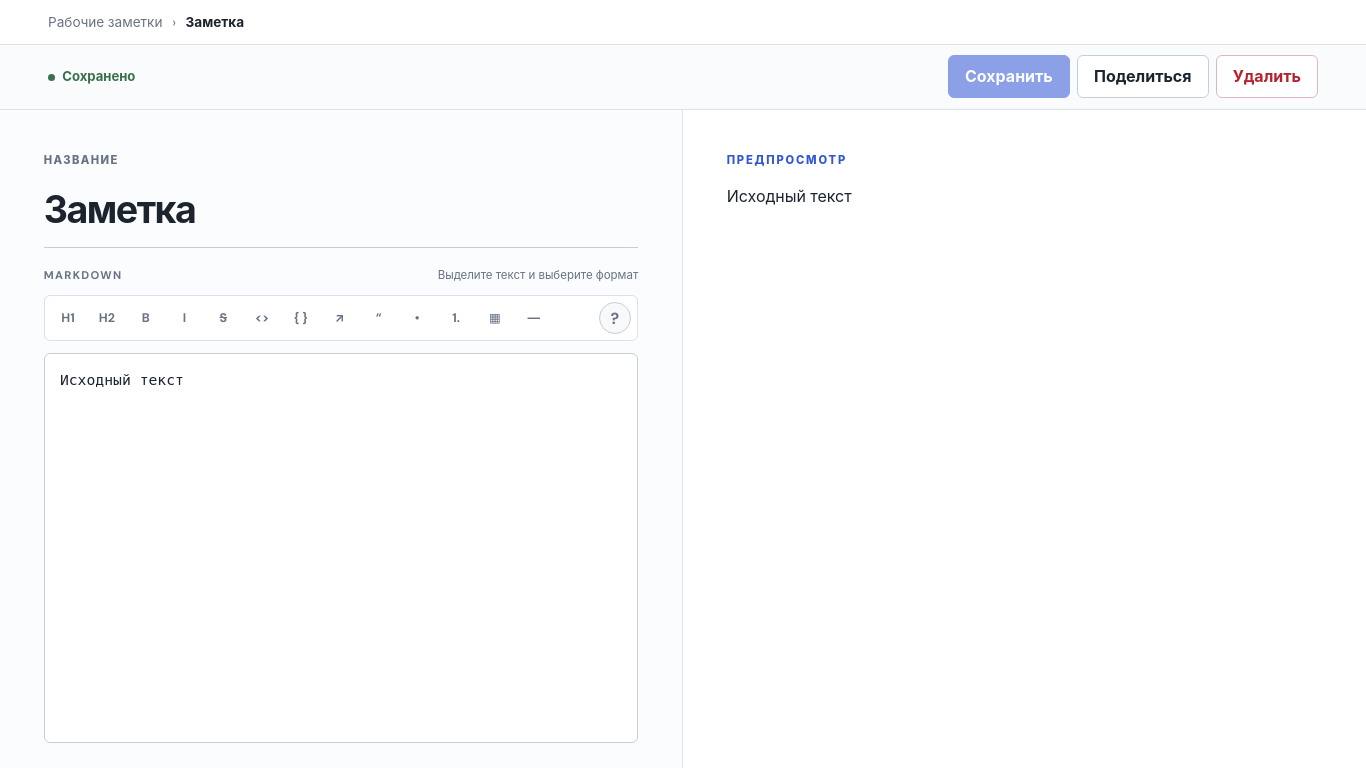
Test case: NotePage autosave › shows the shortcut reference on hover and keyboard focus
Hover over the button named "Сочетания клавиш" at (615, 318), box [599, 302, 631, 334]
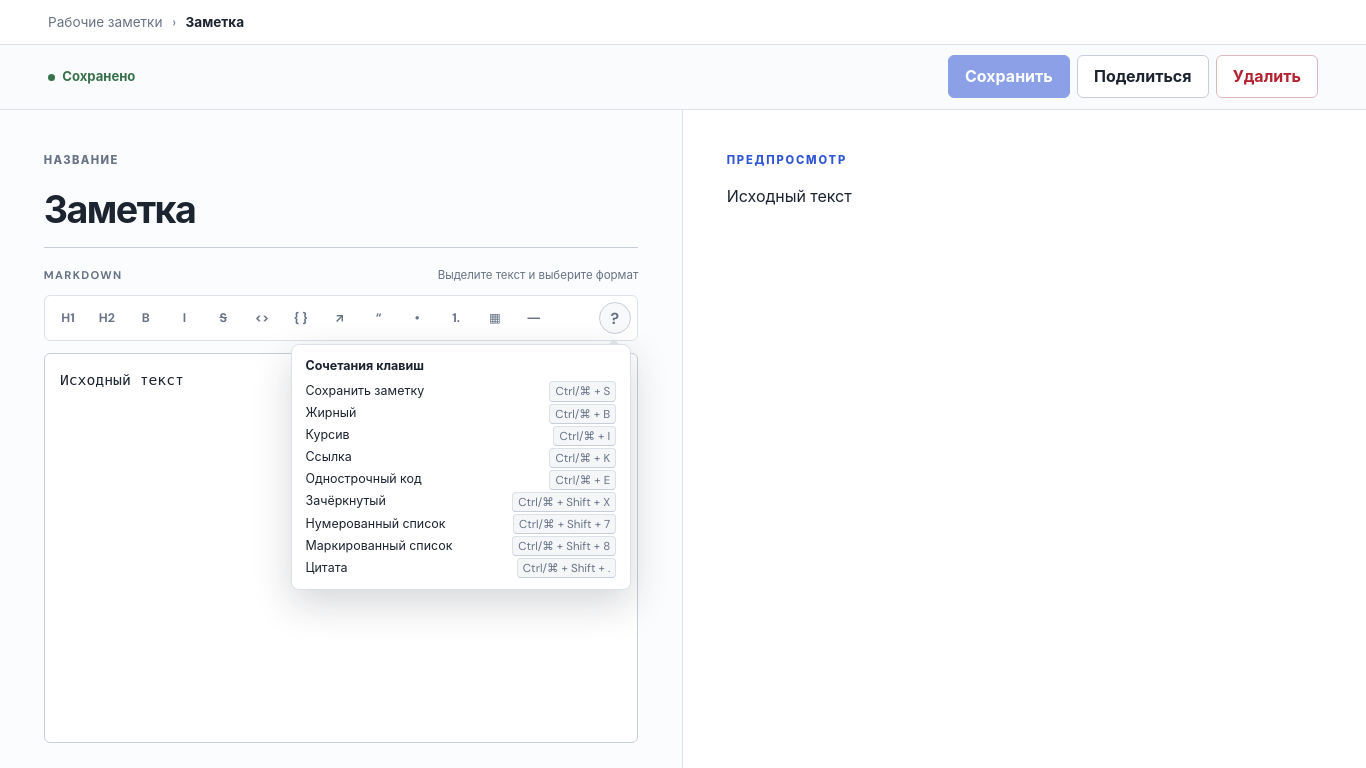
expect the tooltip shows "Ctrl/⌘ + S": met, box [555, 384, 610, 399]
Move the pointer off the button named "Сочетания клавиш", box [599, 302, 631, 334]
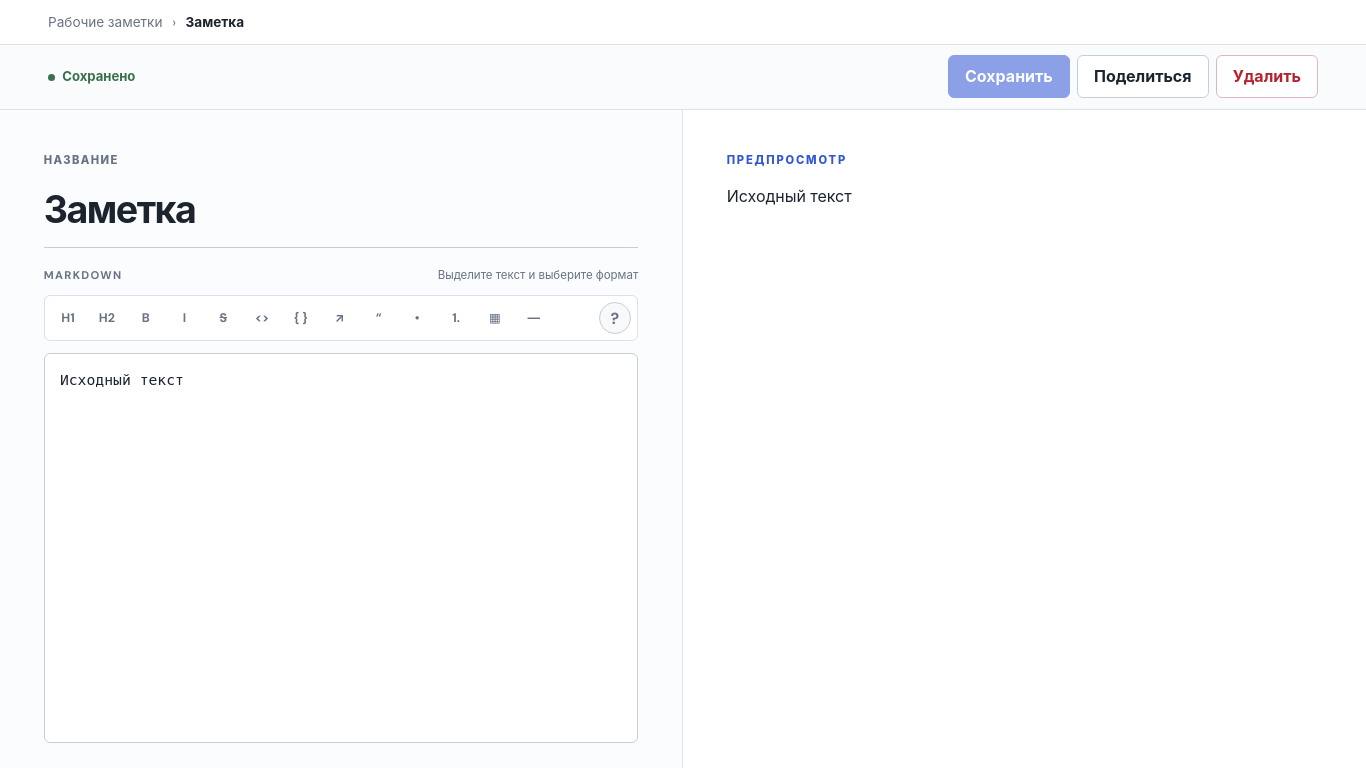
Focus the button named "Сочетания клавиш" at (615, 318), box [599, 302, 631, 334]
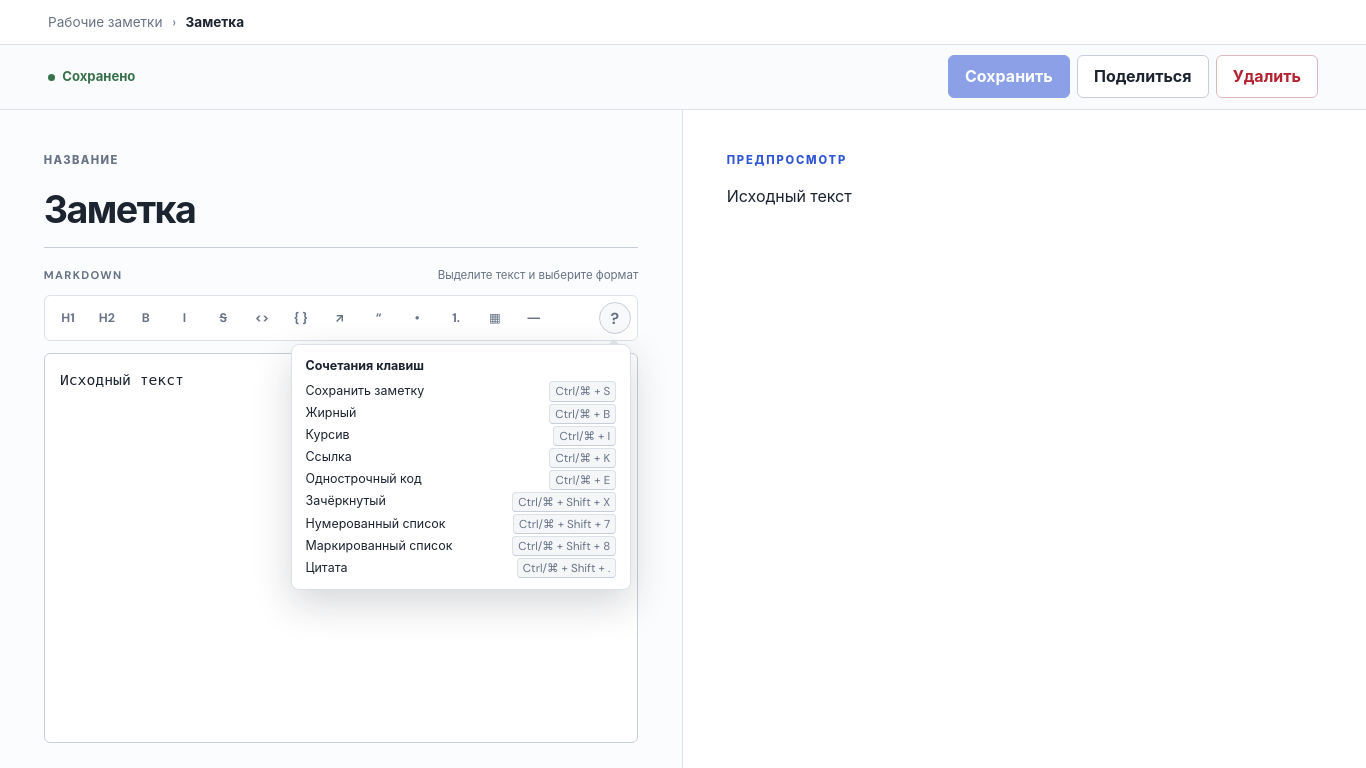
expect the tooltip shows "Жирный": met, box [306, 405, 356, 421]
